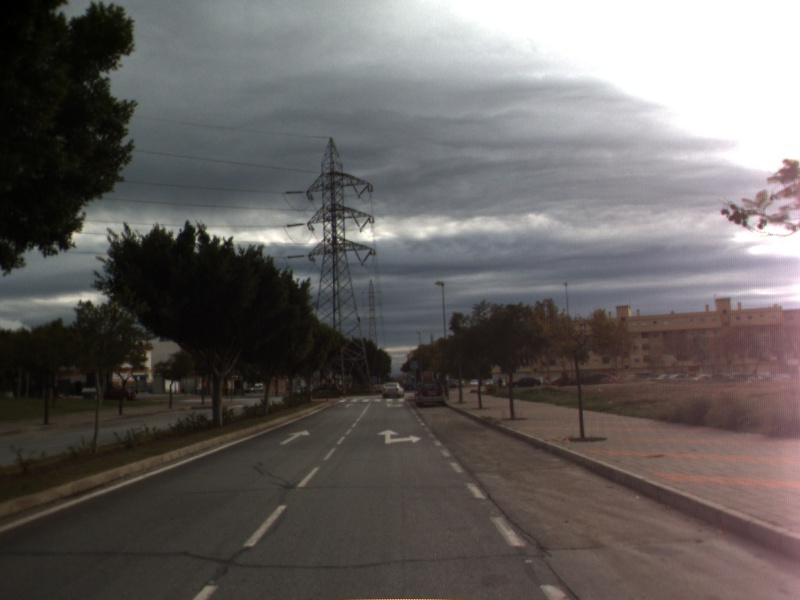STRAIGHT: (277, 427, 312, 447)
STRAIGHT_RIGHT: (375, 427, 424, 446)
